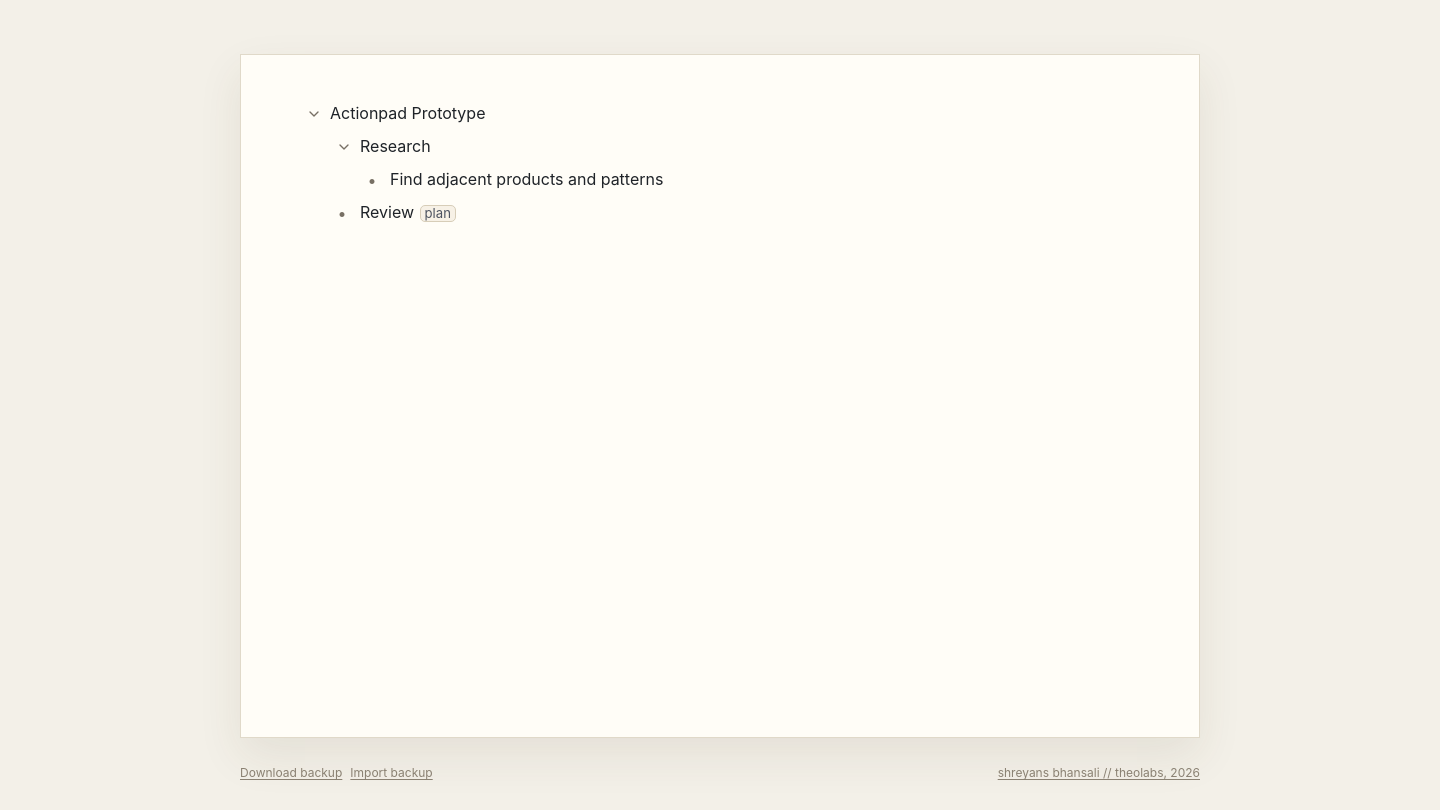
Test case: clicking a markdown filesystem chip opens the side panel document viewer
Click the button with aria-label "open plan". click: (438, 214)
box: [420,205,456,222]
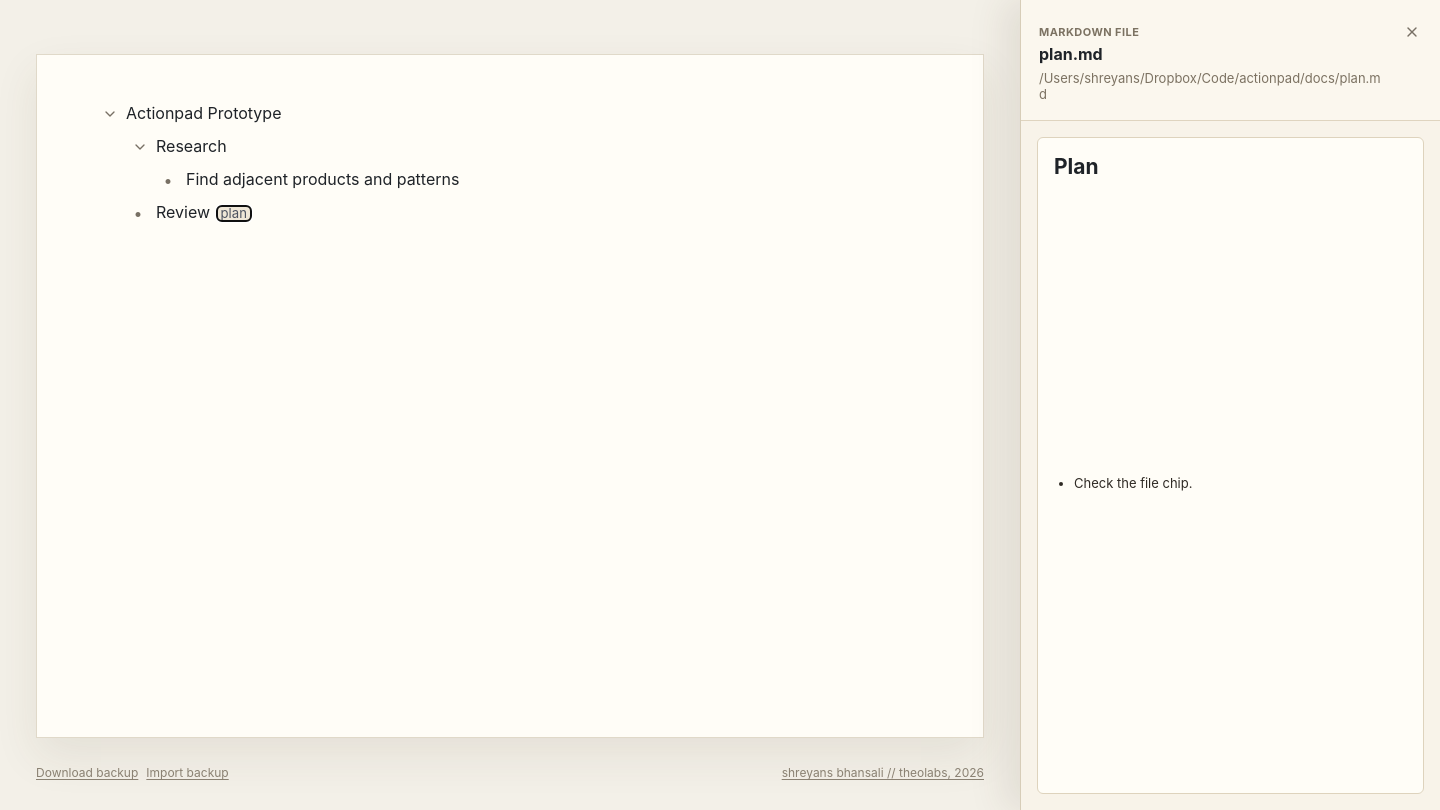
Result: the heading "plan.md" is shown at [1039,44,1103,64]
Result: the heading "Plan" is shown at [1054,154,1099,179]
Result: the list item "Check the file chip." is shown at [1074,475,1192,491]
